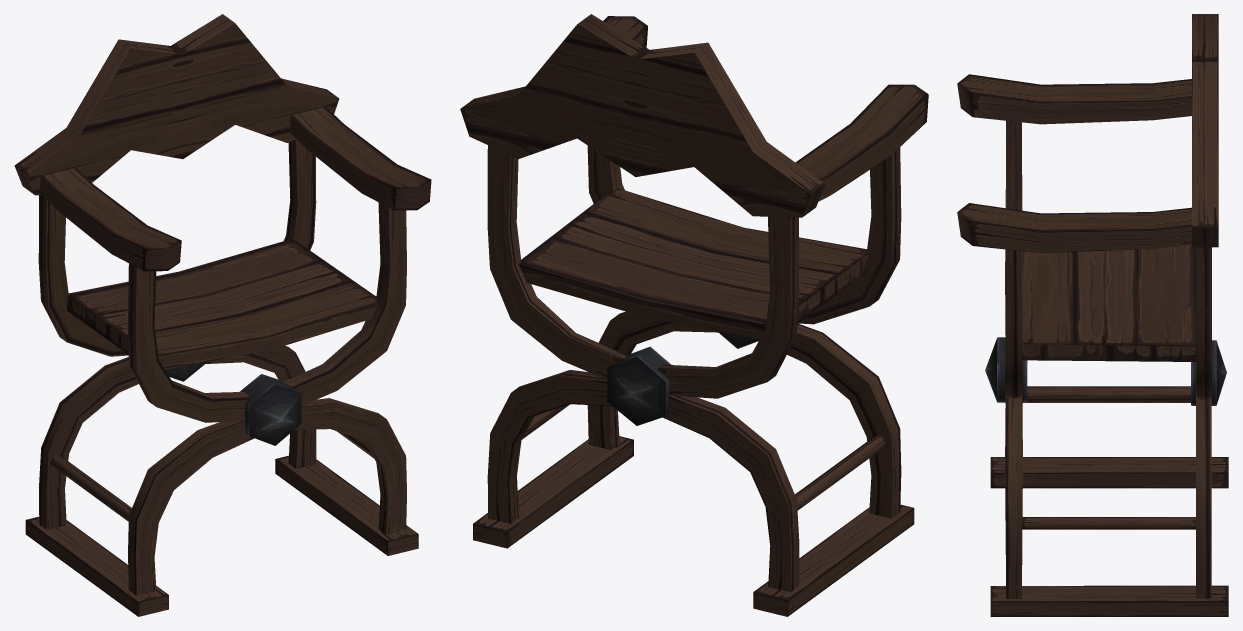
The model's file is SM_PROP_chair_battle_01.fbx.
The picture shows the model from 3 angles, left to right: view 1: azimuth 30°, elevation 25°; view 2: azimuth 150°, elevation 25°; view 3: azimuth 270°, elevation 25°; orthographic projection. The views are drawn at different scales.
Parts seen in each view (by area): view 1: SM_PROP_chair_battle_01; view 2: SM_PROP_chair_battle_01; view 3: SM_PROP_chair_battle_01.
Part boxes in pixels (x1,y1,x2,y2): SM_PROP_chair_battle_01: [14, 14, 431, 616]; SM_PROP_chair_battle_01: [460, 14, 928, 616]; SM_PROP_chair_battle_01: [957, 14, 1228, 616].
Size of the model in its own units: 75.37 by 110 by 53.71.
